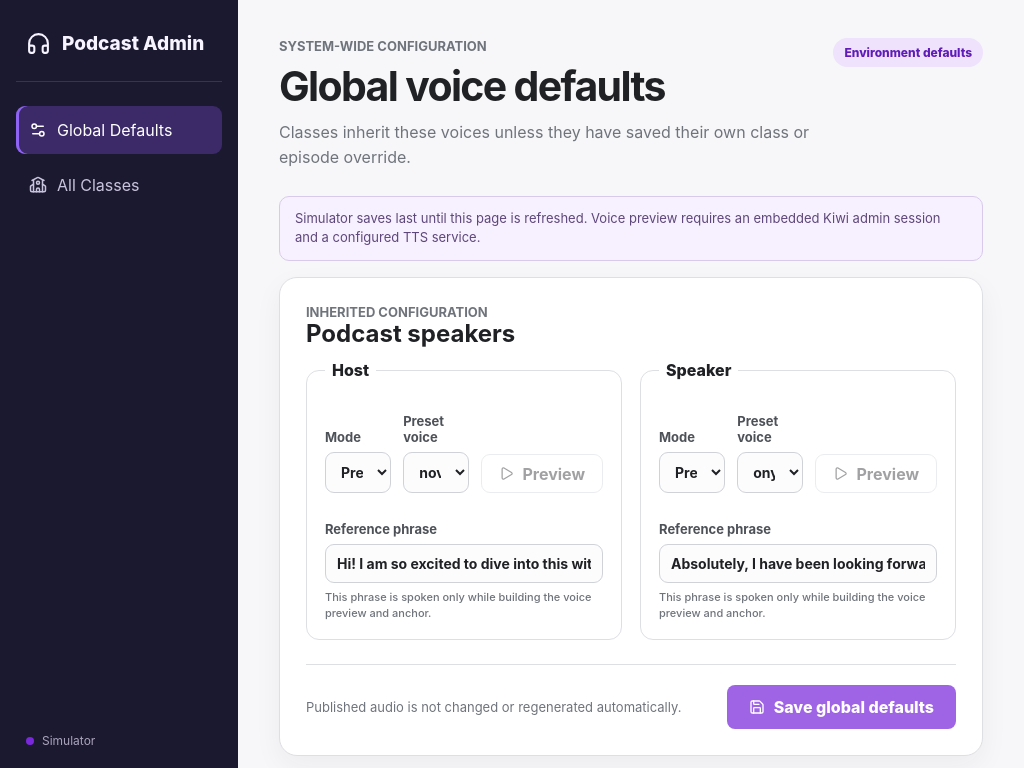
Test case: AdminApp › renders the admin shell and saves global defaults in Simulator mode
Expected: the heading "Global voice defaults" is shown, [279,61,665,111]
Expected: the text "Environment defaults" is shown, [834,38,983,67]
Select "shimmer" in the dropdown labelled "Preset voice" below "Host" at [436, 473], box [403,452,469,493]
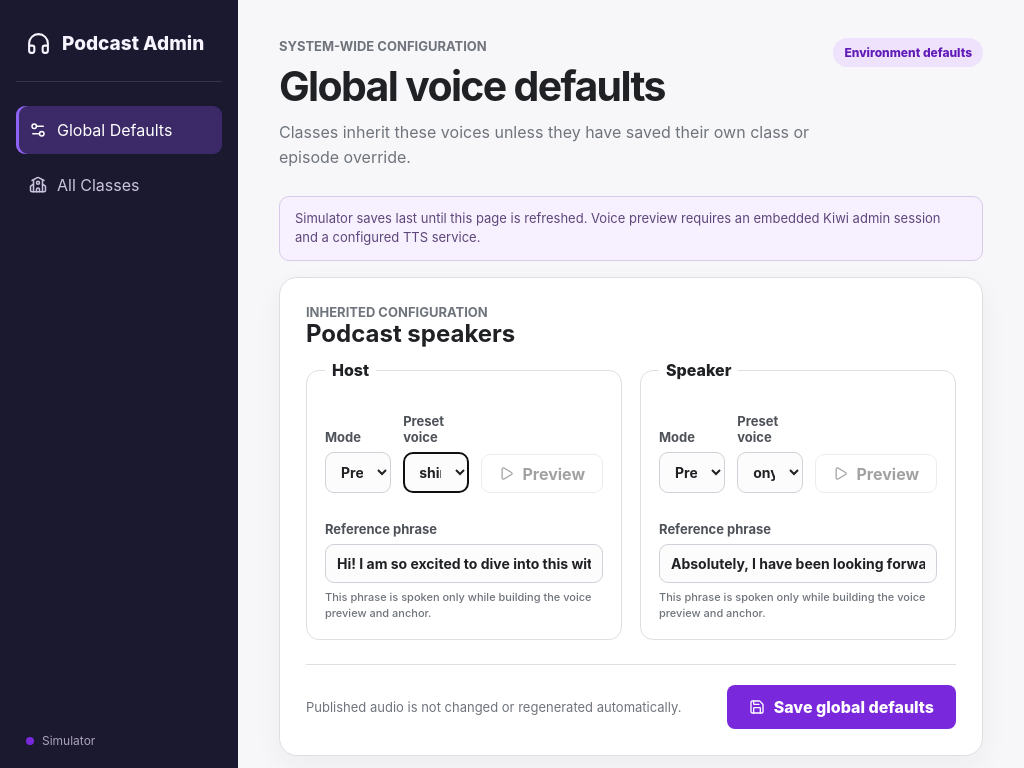
Click the button "Save global defaults".
click(841, 707)  # box [727,685,956,729]
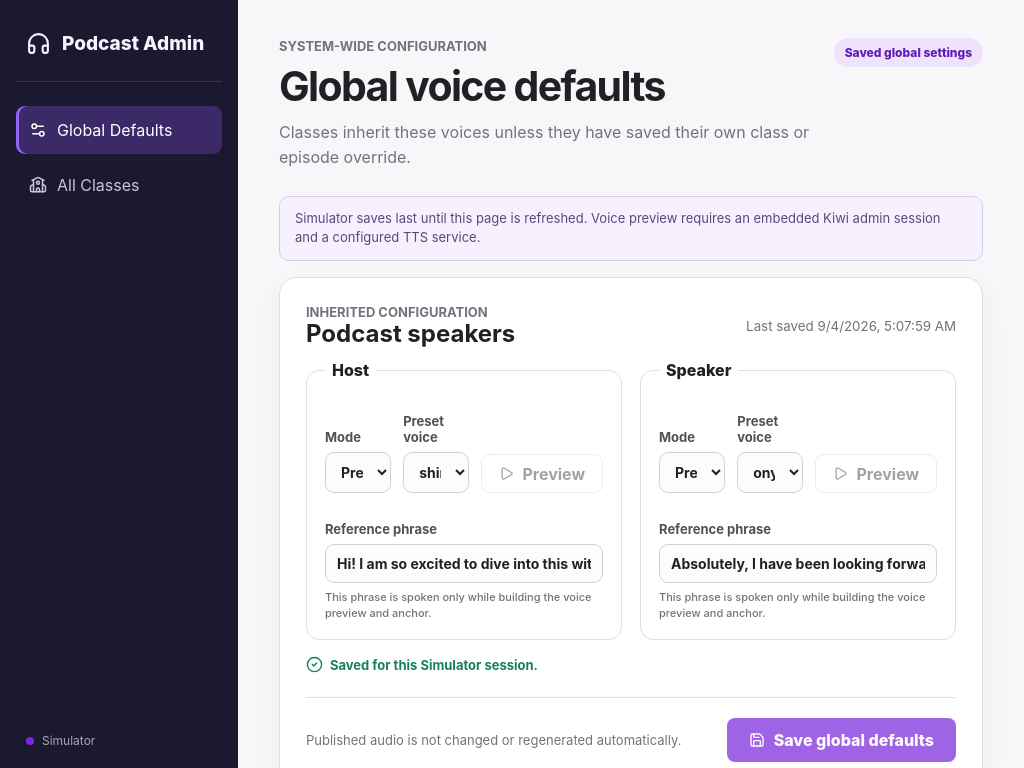
Expected: the button "Preview" below "Host" is disabled, [481,454,603,493]
Expected: the text "Saved for this Simulator session." is shown, [306,656,538,673]
Expected: the text "Saved global settings" is shown, [834,38,983,67]
